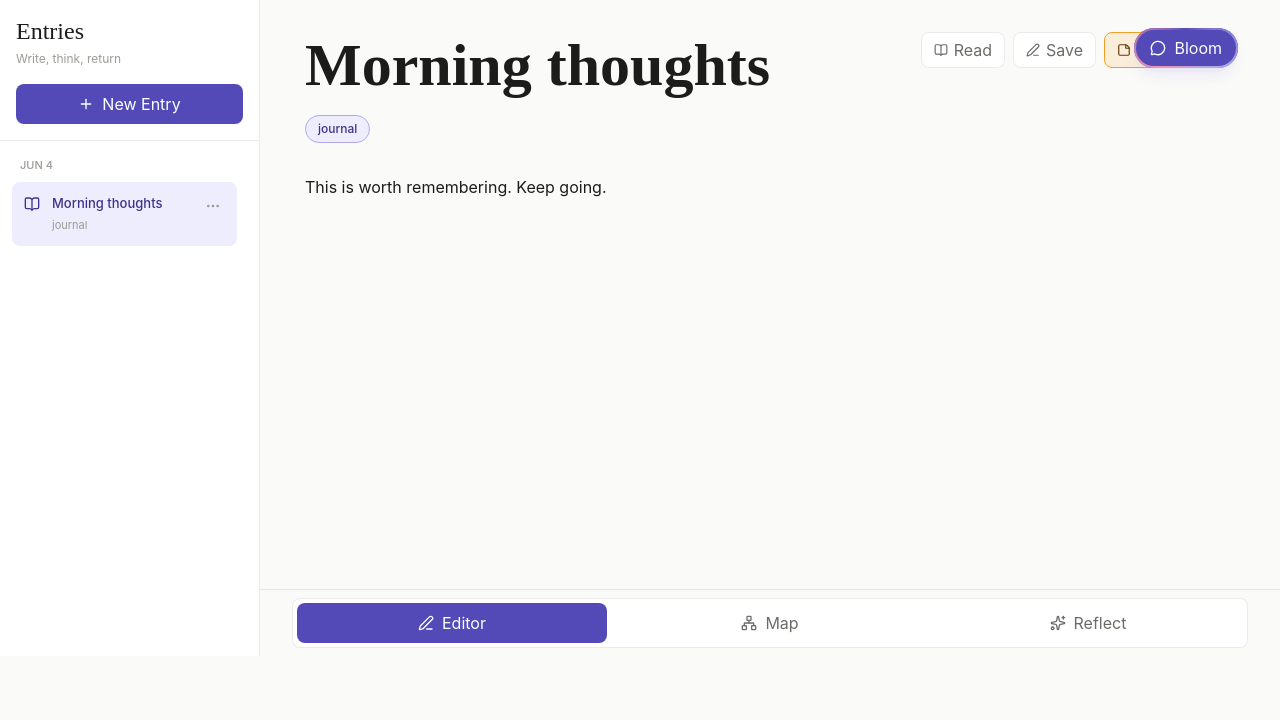
Test case: JournalWorkspace › shows retry UI after a failed Bloom stream
This screenshot has width=1280, height=720.
Click the button with aria-label "Open Bloom assistant" at (1186,48), box x1=1134 y1=28 x2=1238 y2=68
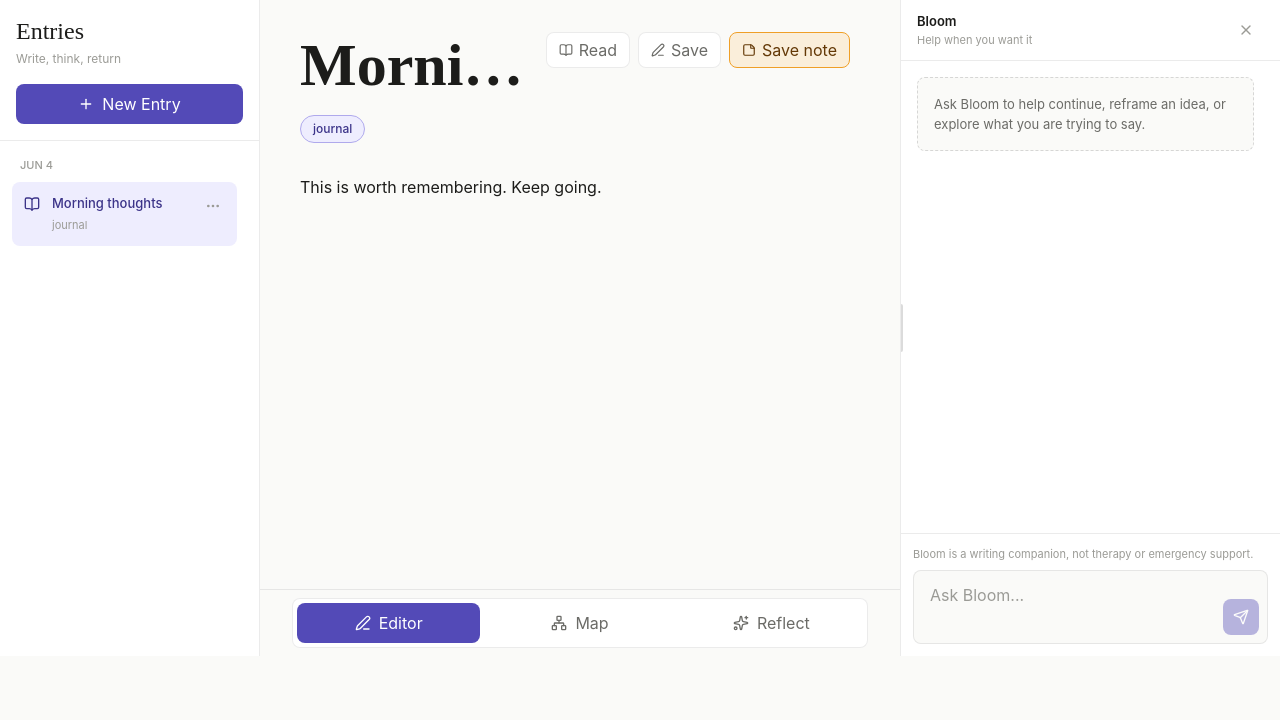
Type "Help me continue" into the text box labelled "Ask Bloom" at (1068,607), box x1=922 y1=579 x2=1215 y2=635
Then press Enter
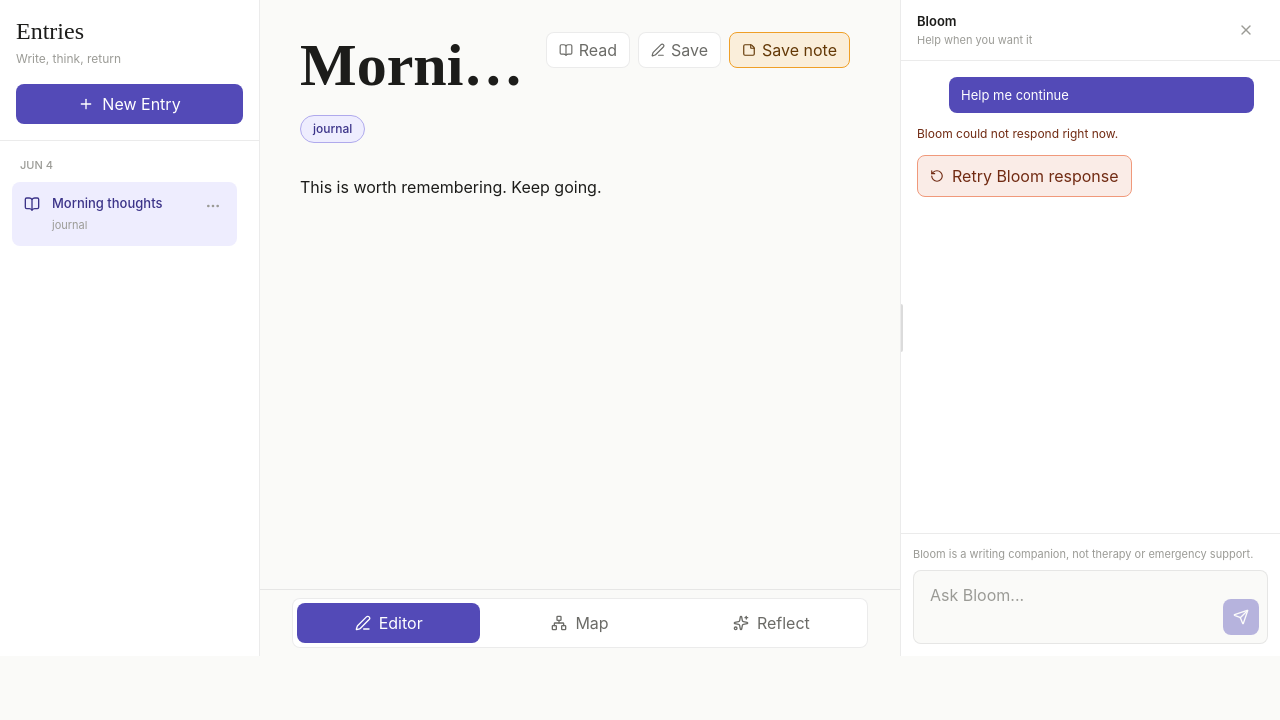
Click the button "Retry Bloom response" at (1024,176), box x1=917 y1=155 x2=1132 y2=197
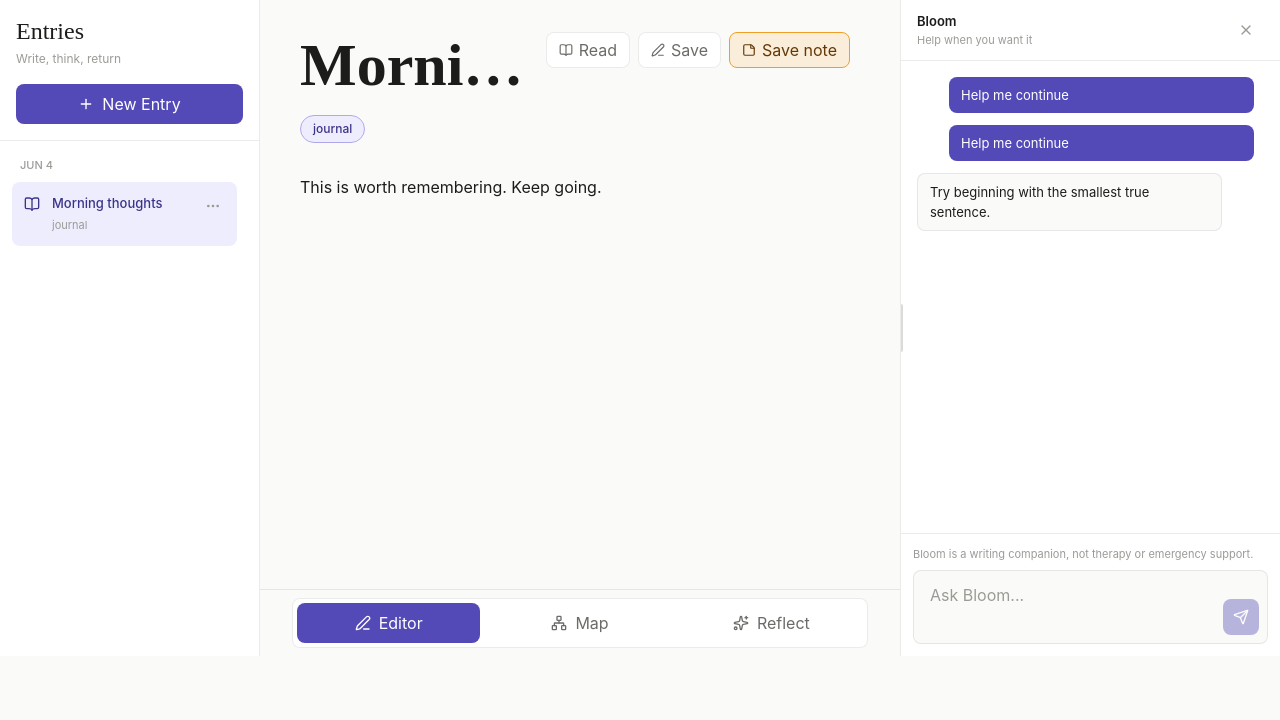
Expected: the text "Try beginning with the smallest true sentence." is shown, x1=917 y1=173 x2=1222 y2=231
